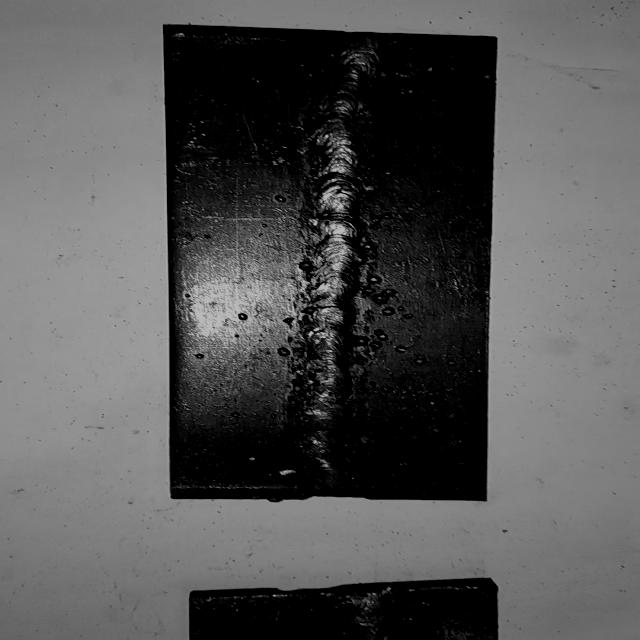Bad Weld: (295, 32, 399, 493)
Defect: (356, 269, 421, 323), (333, 591, 403, 640), (347, 320, 418, 361), (381, 57, 473, 83)
